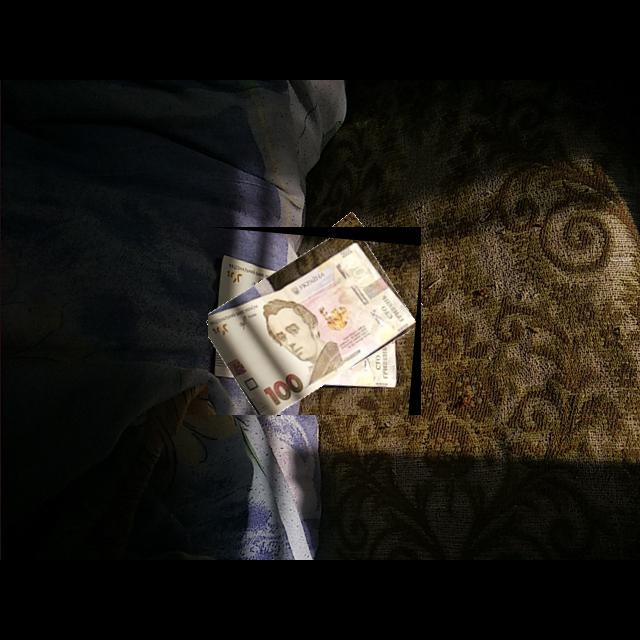100uah: (208, 238, 417, 416)
